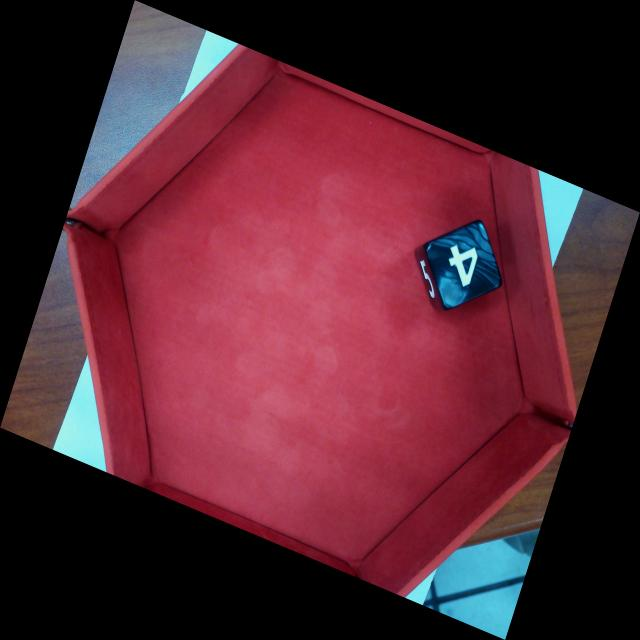dice: (420, 216, 507, 316)
